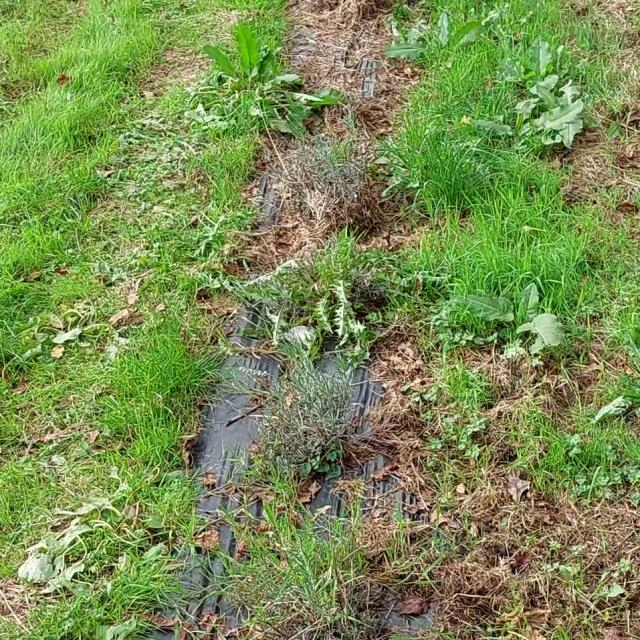organic waste: (5, 499, 142, 586), (460, 92, 626, 158), (207, 9, 307, 118), (442, 279, 571, 350), (369, 0, 490, 67), (18, 284, 120, 361), (502, 33, 573, 100)
